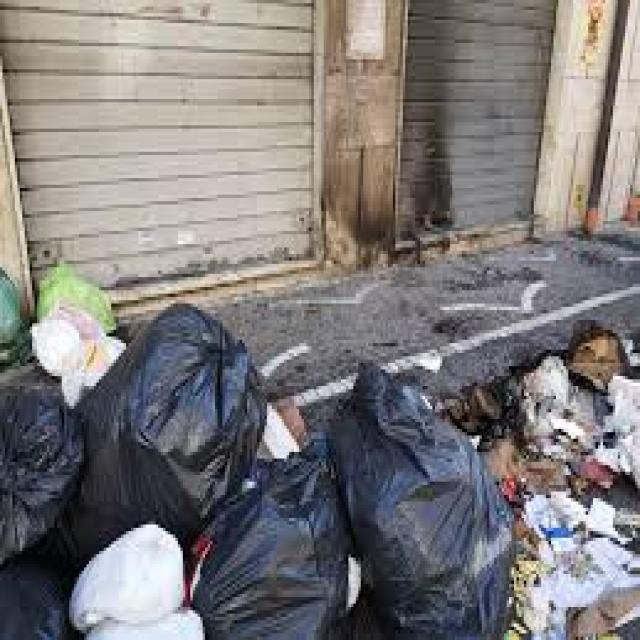Trashbag: (337, 362, 521, 626), (203, 454, 366, 640), (101, 314, 254, 496), (0, 380, 88, 554)
